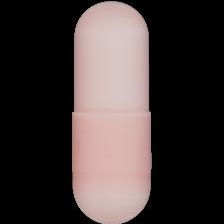63187-304: (0, 0, 224, 224)
